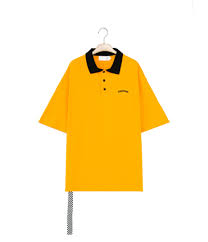S_polo shirt: (39, 50, 170, 200)
